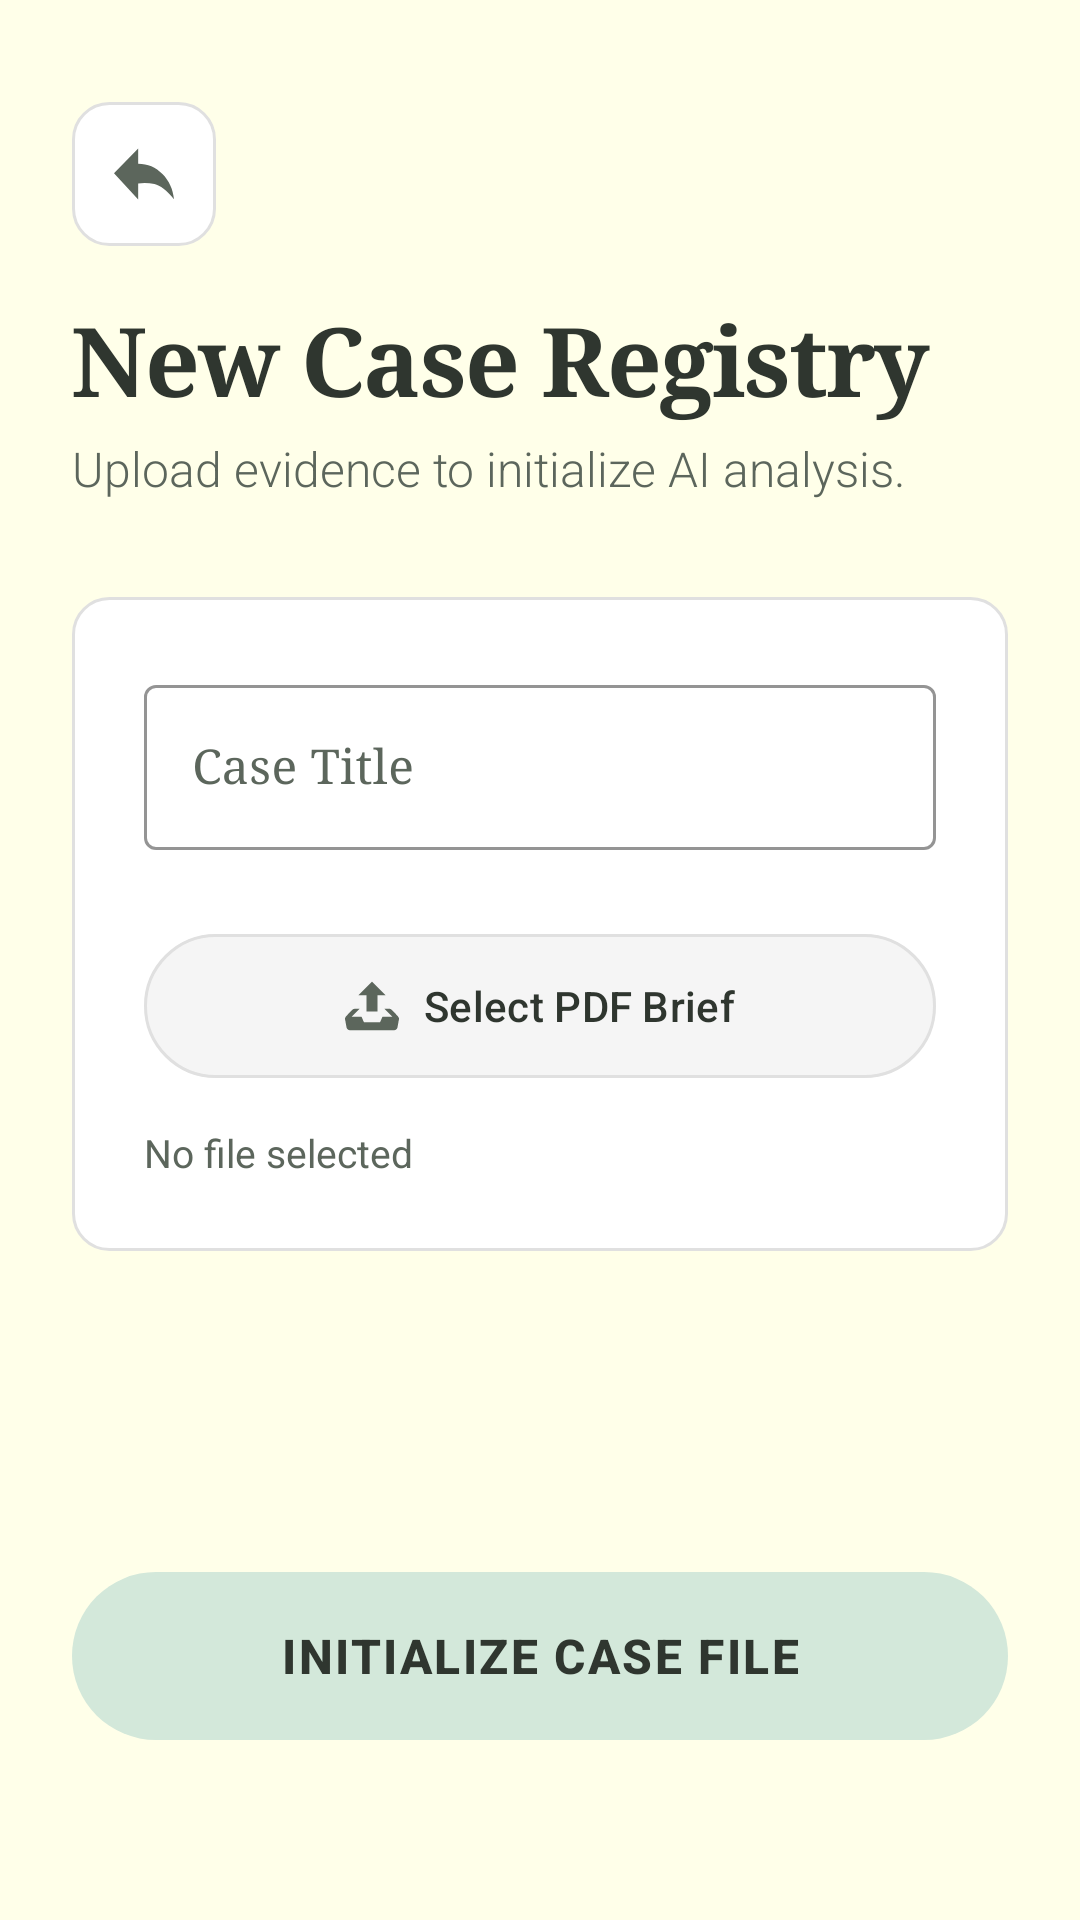

Icons on this 1080 × 1920 Android screen, each with the point to tap as point (x, y):
back: point (144, 174)
